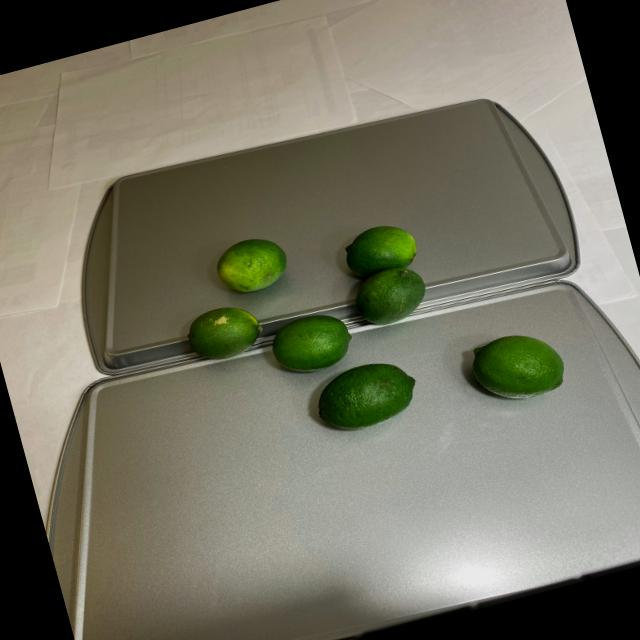lemon: (166, 163, 574, 488)
